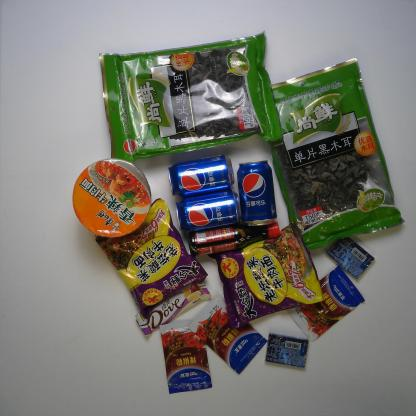Chocolate: (128, 281, 210, 338)
Dried Food: (261, 59, 410, 248), (94, 26, 287, 159)
Drink: (236, 160, 282, 226), (168, 152, 235, 196), (174, 188, 238, 229)
Gum: (262, 329, 310, 372), (326, 233, 372, 277)
Instant Noodles: (93, 196, 210, 307), (213, 223, 325, 324), (72, 156, 151, 238)
Seasoner: (289, 267, 367, 342), (191, 298, 264, 371), (180, 213, 294, 256), (154, 312, 213, 395)
